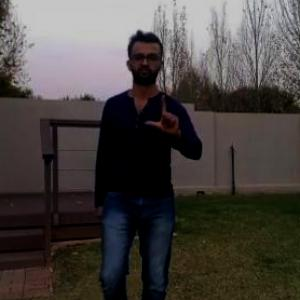land_hand: (144, 84, 193, 137)
